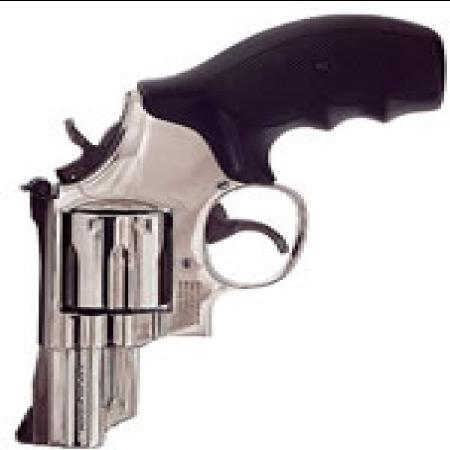Pistol: (12, 12, 438, 448)
